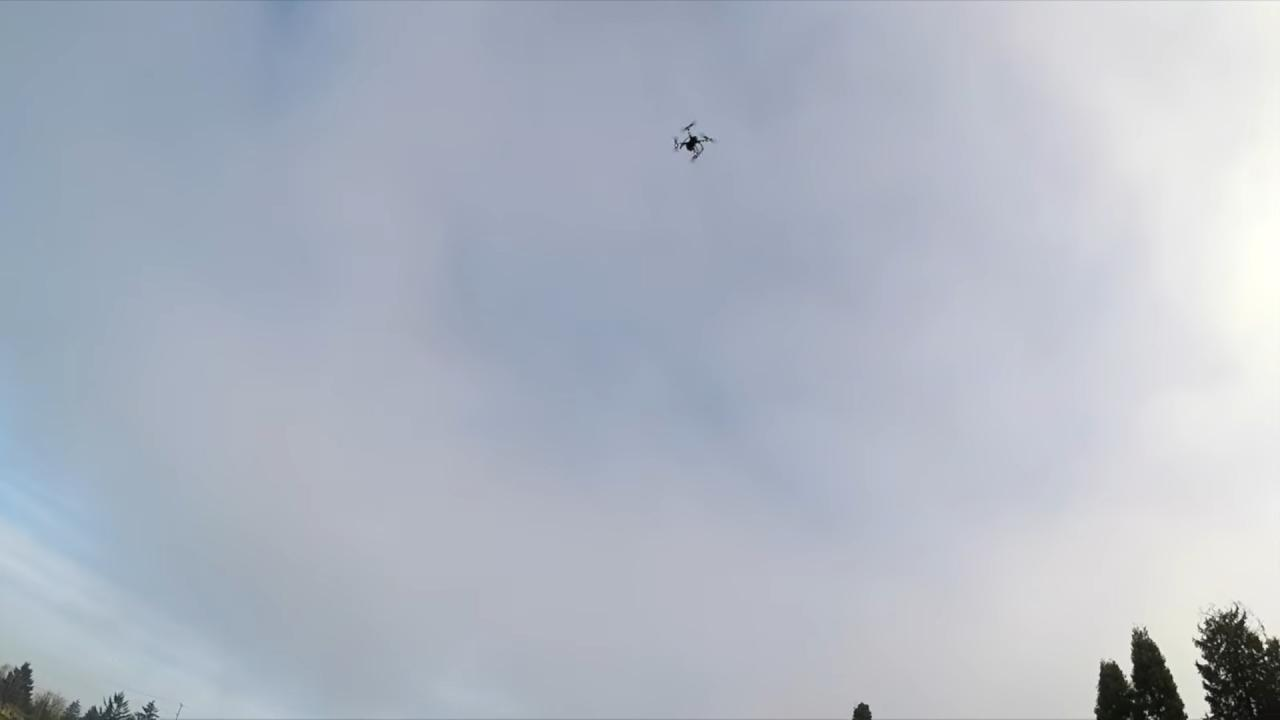Drone: (666, 114, 722, 170)
